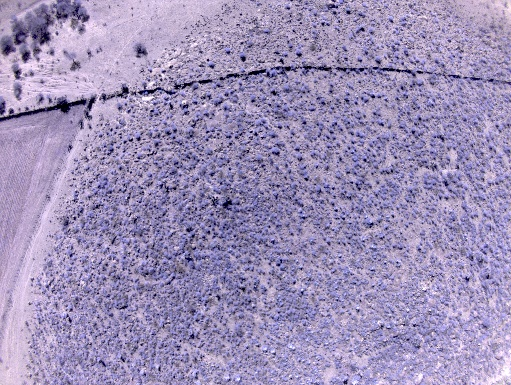agave: (256, 118, 269, 129), (391, 242, 404, 251), (364, 216, 375, 226), (140, 349, 148, 360), (271, 147, 280, 156), (271, 190, 279, 200), (480, 321, 488, 330), (188, 127, 195, 137), (321, 21, 331, 28), (382, 224, 392, 231), (399, 121, 406, 130), (164, 252, 173, 259), (381, 168, 390, 175), (461, 113, 468, 122), (213, 98, 221, 105), (223, 104, 231, 111), (213, 187, 221, 194), (194, 251, 201, 259), (97, 131, 104, 139), (497, 124, 504, 132), (301, 117, 307, 126), (378, 118, 384, 127), (295, 154, 302, 161), (374, 56, 381, 63), (416, 79, 423, 86), (205, 148, 212, 155), (269, 238, 276, 245), (66, 250, 73, 257), (194, 348, 200, 356), (154, 107, 160, 115), (80, 333, 88, 339), (316, 186, 321, 195), (272, 313, 278, 320), (290, 129, 296, 136), (251, 95, 257, 102), (240, 53, 246, 60), (209, 62, 215, 69), (309, 238, 315, 245), (326, 143, 333, 149), (357, 55, 363, 62), (192, 174, 199, 180), (320, 98, 326, 105), (363, 97, 369, 104), (192, 83, 198, 90), (271, 70, 277, 77), (170, 167, 176, 174), (226, 131, 232, 138), (357, 131, 363, 138), (429, 99, 435, 106), (375, 92, 381, 99), (263, 29, 271, 34), (159, 320, 164, 328), (296, 50, 302, 56), (284, 86, 290, 92), (344, 97, 350, 103), (68, 305, 74, 311), (154, 140, 160, 146), (270, 88, 276, 94), (370, 93, 376, 99), (300, 213, 306, 219), (203, 110, 210, 115), (336, 172, 341, 179), (295, 145, 300, 152), (411, 127, 416, 134), (270, 131, 275, 137), (280, 265, 285, 271), (225, 48, 231, 53), (136, 133, 141, 139), (311, 151, 316, 157), (309, 106, 315, 111), (369, 27, 374, 33), (389, 16, 394, 22), (140, 370, 145, 376), (137, 153, 143, 158), (277, 122, 282, 128), (352, 156, 358, 161), (149, 268, 154, 274), (188, 233, 194, 238), (489, 144, 494, 150), (327, 238, 331, 245), (147, 172, 152, 177), (160, 282, 165, 287), (193, 99, 198, 104), (304, 175, 309, 180), (298, 200, 303, 205), (66, 278, 71, 283), (67, 266, 72, 271), (165, 129, 171, 133), (257, 155, 261, 161), (225, 90, 229, 96), (363, 156, 367, 162), (346, 8, 350, 14), (325, 164, 329, 170), (267, 69, 270, 76), (180, 242, 183, 249), (163, 120, 167, 125), (244, 266, 249, 270), (162, 260, 167, 264), (144, 281, 148, 286), (184, 109, 188, 114), (283, 52, 288, 56), (118, 165, 122, 170), (291, 183, 295, 188), (200, 223, 204, 228), (404, 49, 408, 54), (222, 273, 226, 277), (64, 274, 68, 278), (326, 224, 330, 228), (315, 163, 318, 168), (235, 133, 238, 138), (239, 80, 242, 85), (435, 58, 438, 63), (334, 120, 337, 125), (190, 262, 193, 267), (445, 194, 448, 199), (354, 100, 357, 104), (104, 181, 107, 185), (97, 184, 100, 188), (439, 194, 442, 198), (376, 191, 379, 195), (293, 278, 296, 282), (334, 207, 337, 210), (112, 264, 115, 266)
